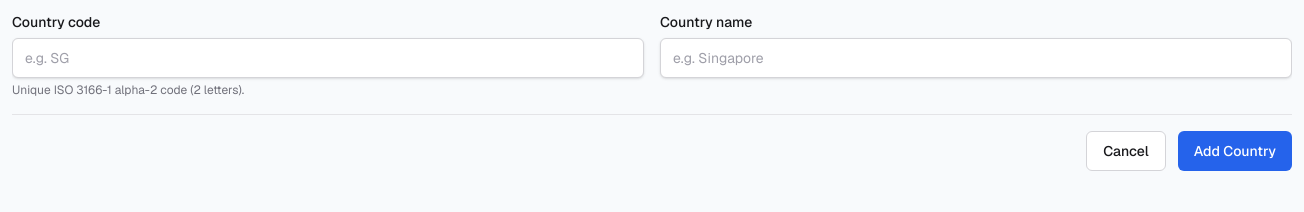
Test case: CountryForm › shows a validation error and does not submit when required fields are missing
Click the button "Add Country": (1235, 151) [1178, 131, 1292, 171]
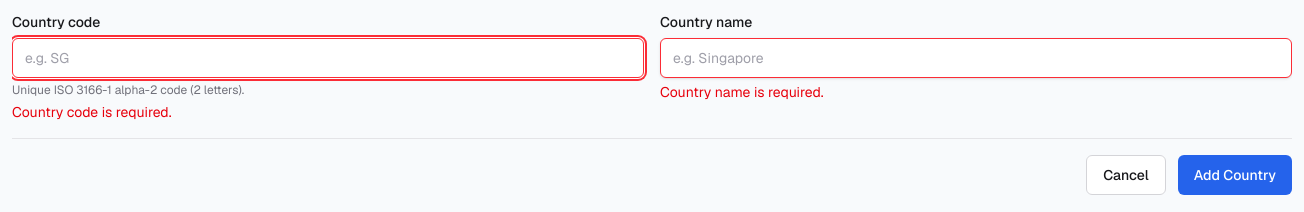
Now the text "Country code is required." is shown, box [12, 103, 172, 121]
